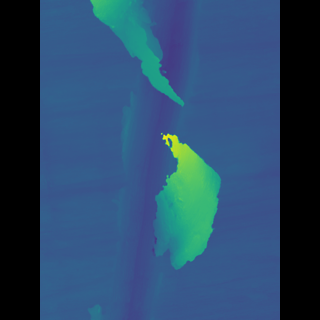Loch: (106, 0, 210, 320), (107, 0, 185, 114), (151, 134, 211, 276)
